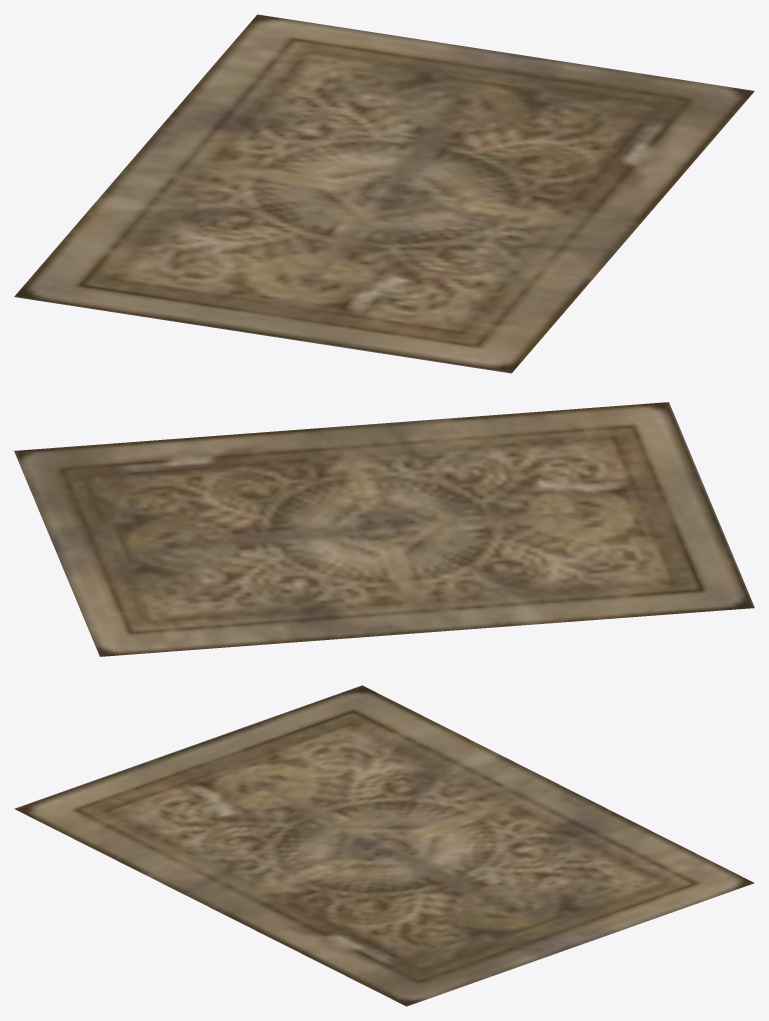
Rendered from pir_m_hnd_crd_single.fbx.
The picture shows the model from 3 angles, top to bottom: view 1: azimuth 30°, elevation 25°; view 2: azimuth 150°, elevation 25°; view 3: azimuth 270°, elevation 25°; orthographic projection. The views are drawn at different scales.
Parts seen in each view (by area): view 1: single; view 2: single; view 3: single.
Part boxes in pixels (x1,y1,x2,y2): single: (14,14,754,373); single: (14,402,754,656); single: (14,685,754,1006).
Size of the model in its own units: 45.47 by 7.22e-06 by 44.32.
1 material, 1 textured.
